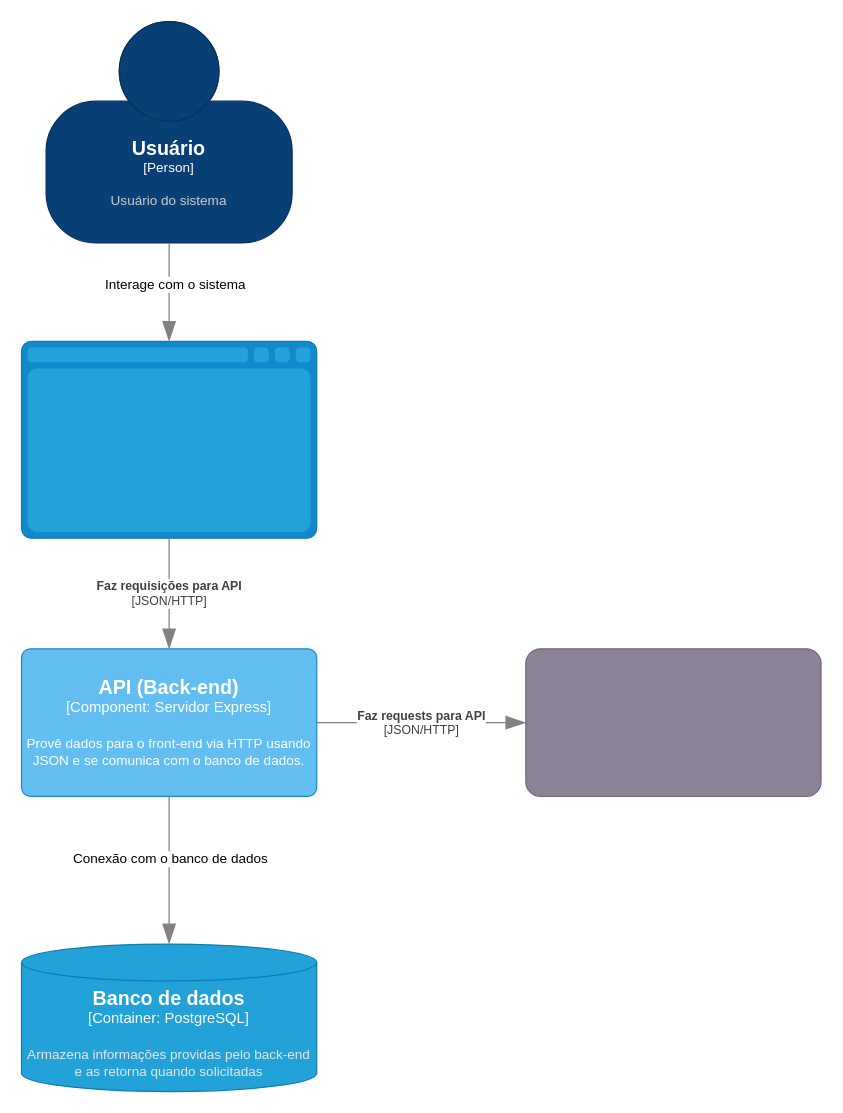
Image size: 843x1113. Some labels were removed from this diagram. Each missing label, with the box of its shape:
API IGDB [Software System] API do IGDB que provê dados sobre videogames, etc...: (525, 648, 821, 796)
Single-Page Application [Container: React] Interface gráfica do sistema: (20, 340, 317, 538)
